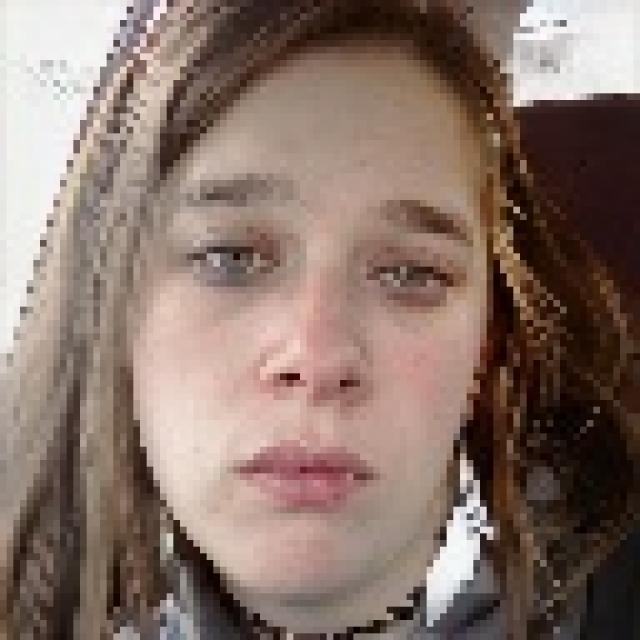Sad: (94, 0, 539, 640)
